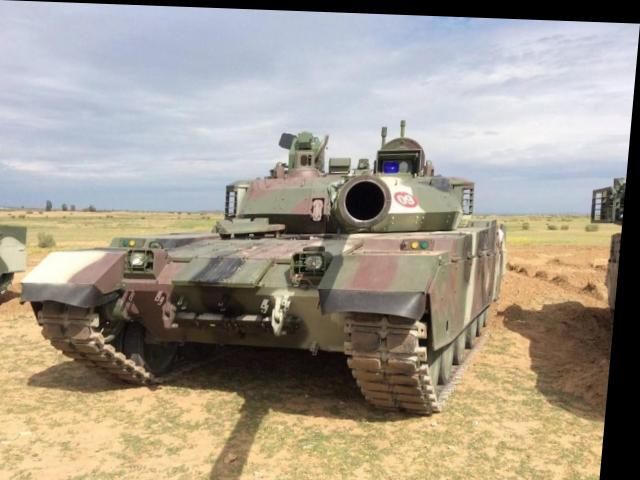tank: (51, 143, 509, 417)
